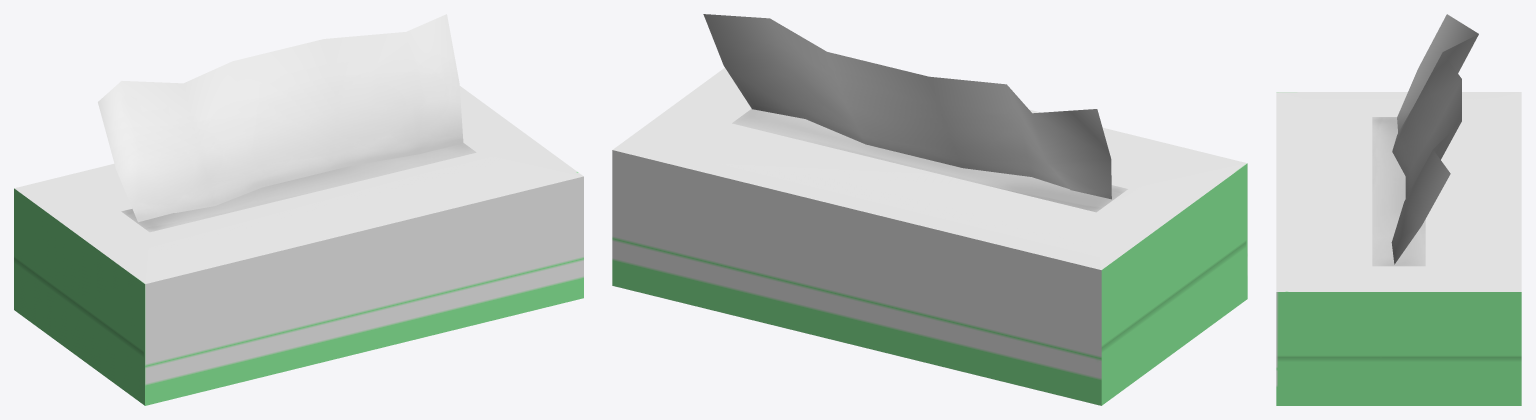
File: tissue.fbx
The picture shows the model from 3 angles, left to right: view 1: azimuth 30°, elevation 25°; view 2: azimuth 150°, elevation 25°; view 3: azimuth 270°, elevation 25°; orthographic projection. The views are drawn at different scales.
Parts seen in each view (by area): view 1: polySurface4; view 2: polySurface4; view 3: polySurface4.
Part boxes in pixels (box(x1,y1,x2,y2)): polySurface4: box(14, 14, 583, 405); polySurface4: box(612, 14, 1247, 405); polySurface4: box(1276, 14, 1521, 405).
Size of the model in its own units: 13.62 by 6.79 by 7.05.
1 material, 1 textured.
